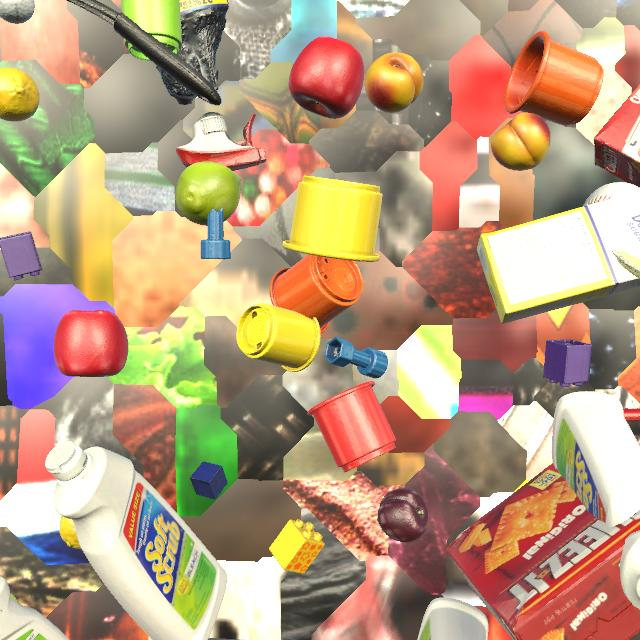ycb_003_cracker_box: (446, 463, 640, 640), (594, 84, 640, 188)
ycb_004_sugar_box: (477, 190, 640, 324)
ycb_013_apple: (289, 36, 364, 119), (54, 310, 128, 377)
ycb_014_lemon: (0, 68, 40, 122), (59, 516, 82, 550)
ycb_015_peach: (365, 52, 424, 113), (491, 112, 551, 171)
ycb_016_pear: (175, 162, 242, 226)
ycb_018_plum: (377, 488, 429, 543)
